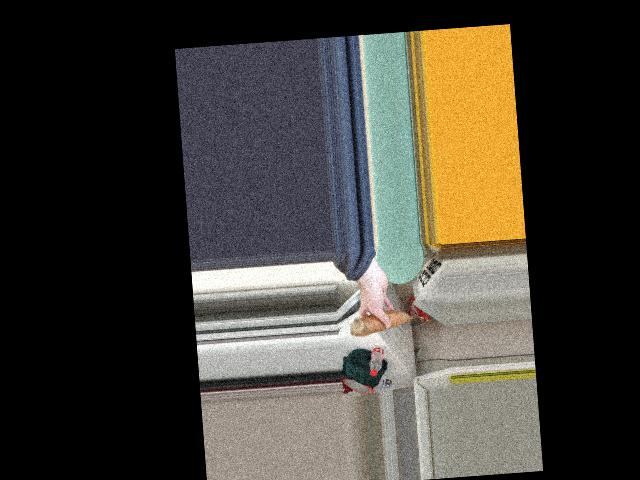sweet_potato: (348, 311, 413, 332)
